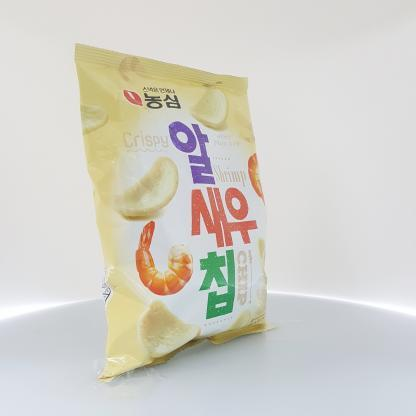Plastic Packaging: (74, 32, 298, 392)
